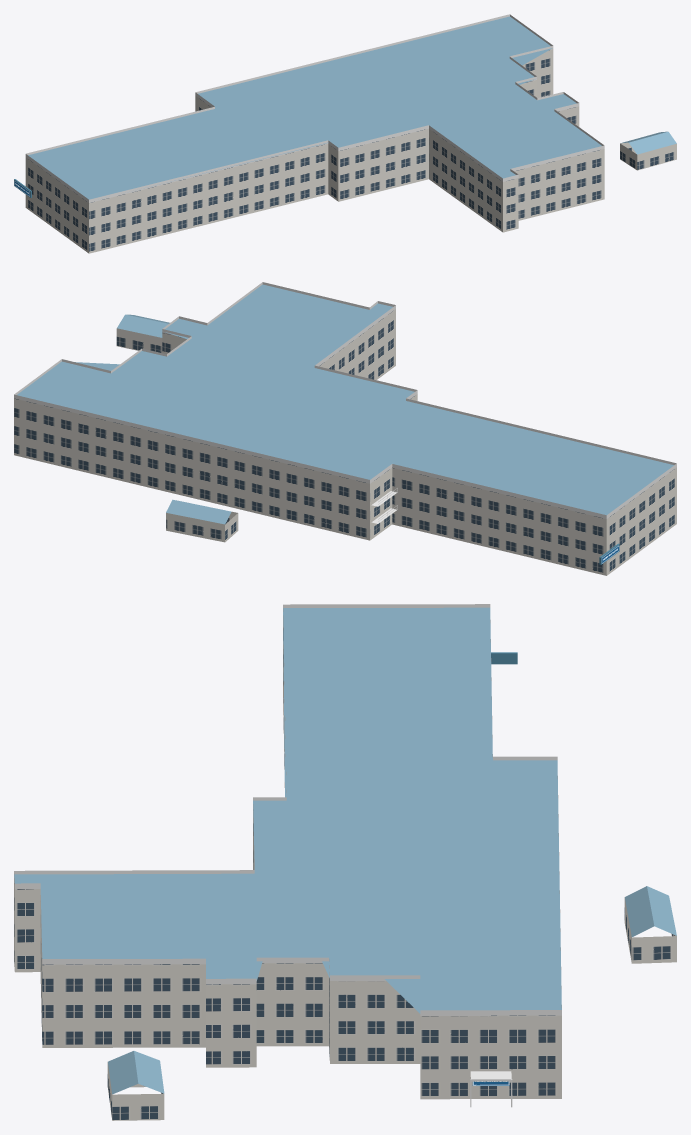
The model's file is arubabeachclub.glb.
The picture shows the model from 3 angles, top to bottom: view 1: azimuth 30°, elevation 25°; view 2: azimuth 150°, elevation 25°; view 3: azimuth 270°, elevation 25°; orthographic projection. The views are drawn at different scales.
Parts seen in each view (by area): view 1: arubabeachclub_lod0; view 2: arubabeachclub_lod0; view 3: arubabeachclub_lod0.
Boxes of the visible parts, box(x1,y1,x2,y2) form: arubabeachclub_lod0: box(14, 14, 676, 253); arubabeachclub_lod0: box(14, 282, 676, 575); arubabeachclub_lod0: box(14, 604, 676, 1120).
Size of what is drawn, in the model's own units: 116 by 11.07 by 74.9.
5 materials, 2 textured.
